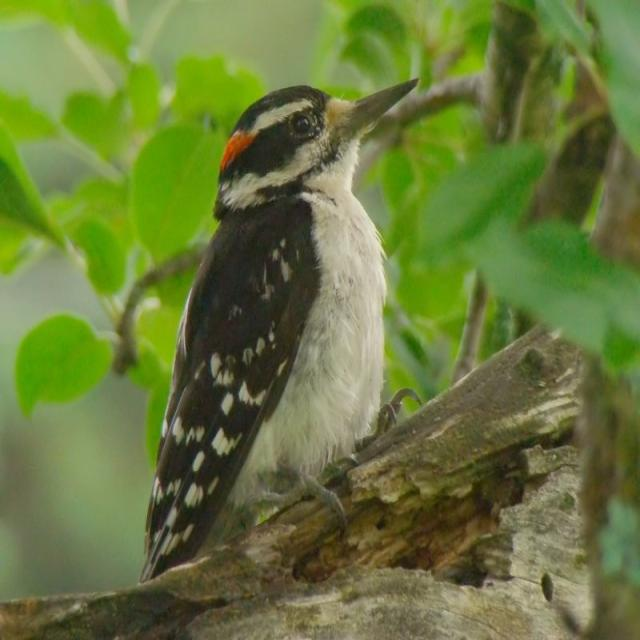bird: (140, 76, 438, 583)
